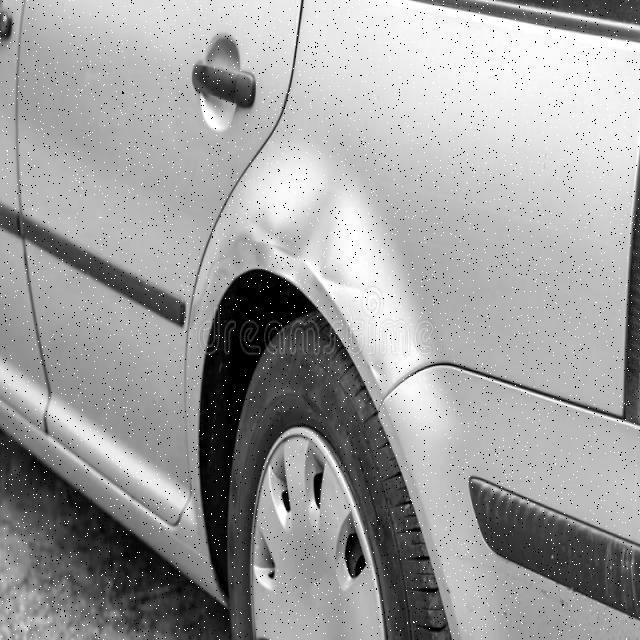quaterpanel-dent: (227, 29, 640, 432)
